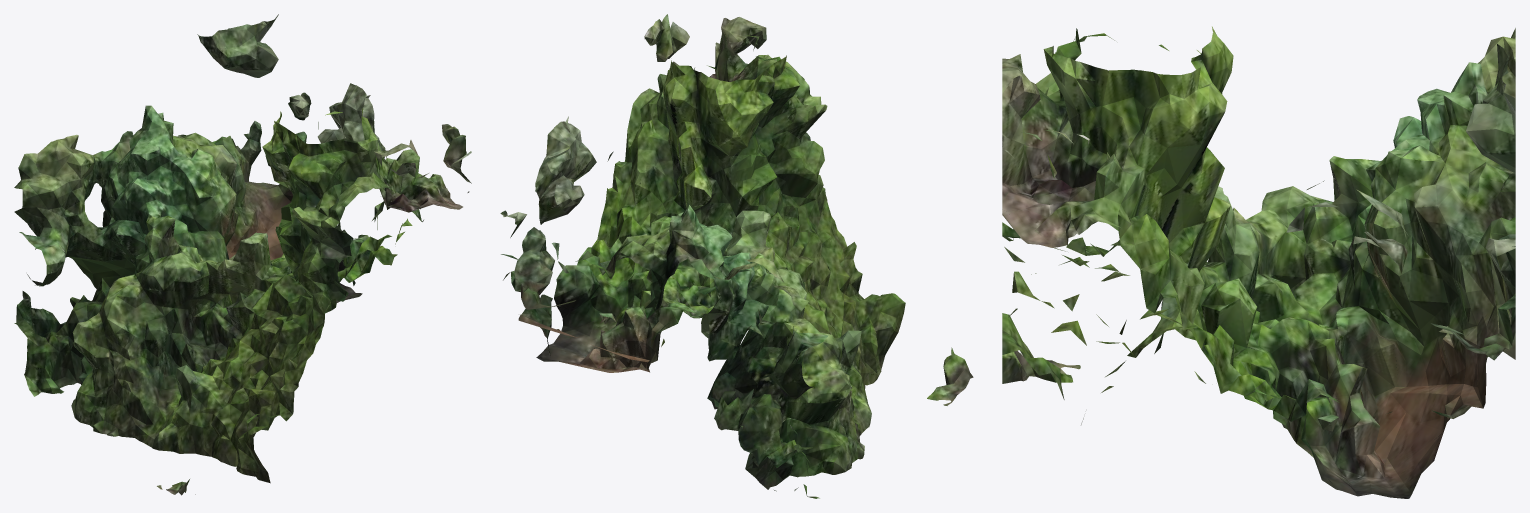
The picture shows the model from 3 angles, left to right: view 1: azimuth 30°, elevation 25°; view 2: azimuth 150°, elevation 25°; view 3: azimuth 270°, elevation 25°; orthographic projection. The views are drawn at different scales.
Bounding box in the file's own units: 26.11 × 26.11 × 26.11.
8 materials, 8 textured.
